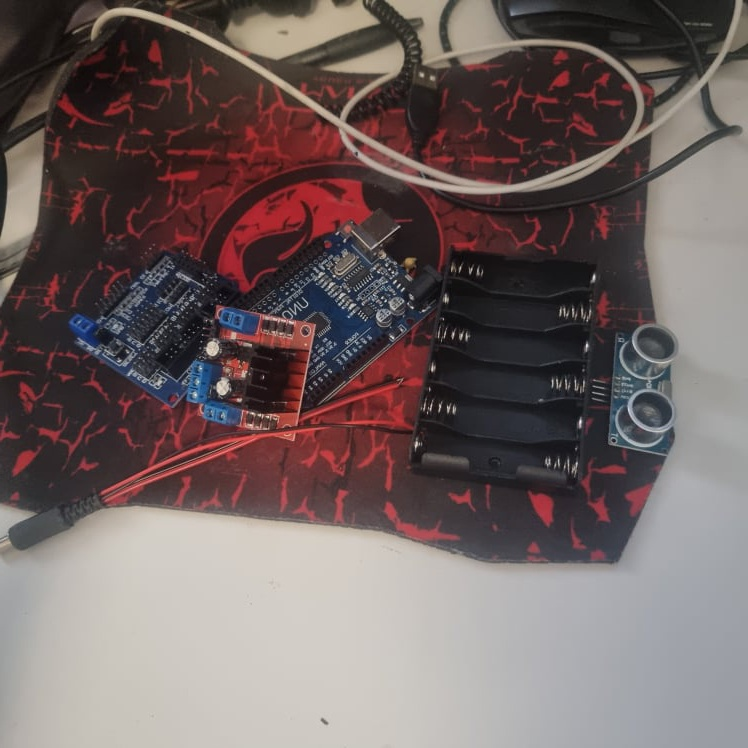5V EXPANSION: (70, 233, 236, 408)
BATTERY BOX: (410, 247, 605, 493)
MOTOR: (185, 305, 309, 441)
SENSOR: (609, 323, 683, 461)
UNO R3: (265, 205, 444, 400)
